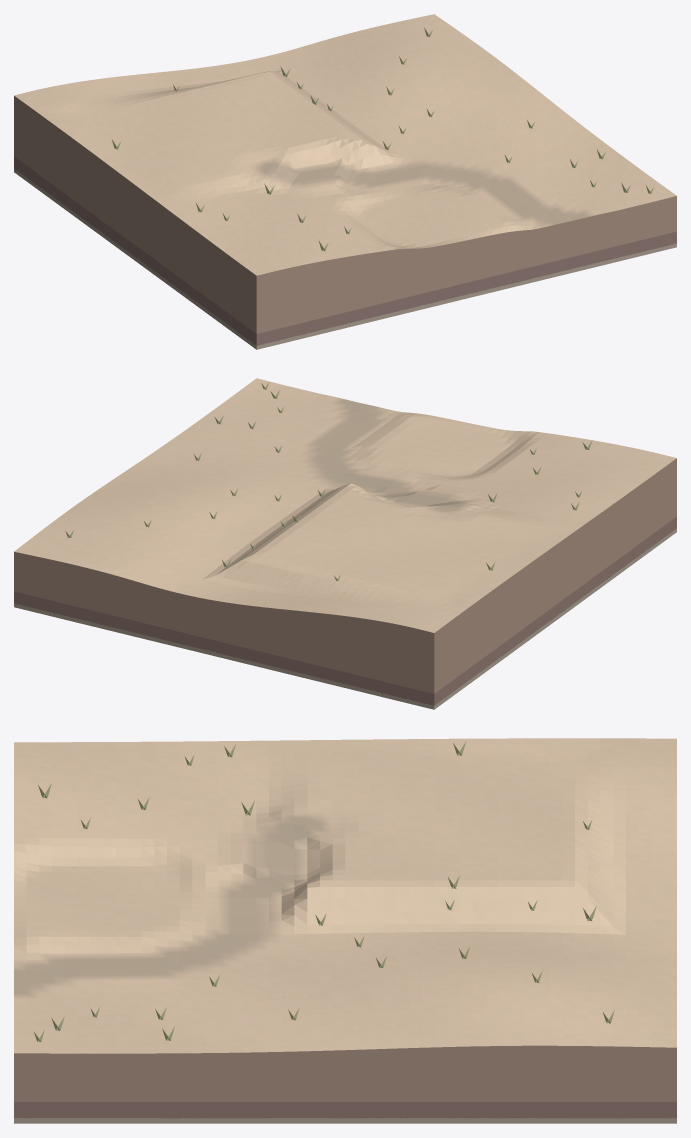
3 views of the same model, one above another, from view 1: azimuth 30°, elevation 25°; view 2: azimuth 150°, elevation 25°; view 3: azimuth 270°, elevation 25° (orthographic). The views are drawn at different scales.
Parts seen in each view (by area): view 1: proc_ground, proc_skirt, proc_grass; view 2: proc_ground, proc_skirt, proc_grass; view 3: proc_ground, proc_skirt, proc_grass.
Part boxes in pixels (left/top/right/bottom): proc_ground: left=14, top=14, right=676, bottom=275; proc_skirt: left=14, top=96, right=676, bottom=349; proc_grass: left=112, top=27, right=653, bottom=251; proc_ground: left=14, top=378, right=676, bottom=632; proc_skirt: left=14, top=458, right=676, bottom=709; proc_grass: left=65, top=382, right=592, bottom=580; proc_ground: left=14, top=738, right=676, bottom=1053; proc_skirt: left=14, top=1045, right=676, bottom=1123; proc_grass: left=34, top=742, right=614, bottom=1041.
Size of the model in its own units: 8 by 1.55 by 8.
